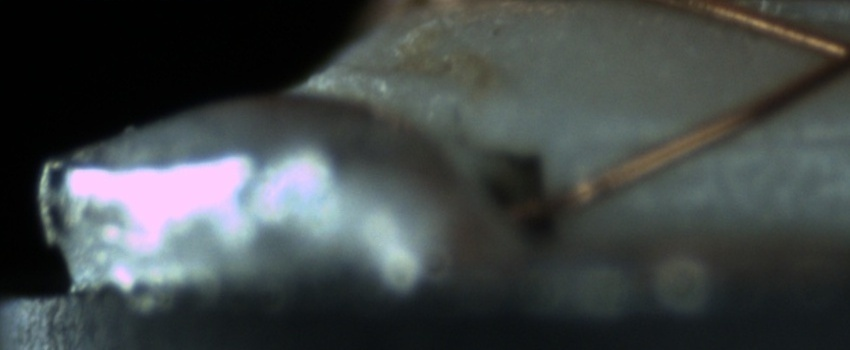CL: (799, 23, 850, 91)
DL: (613, 104, 850, 173)
